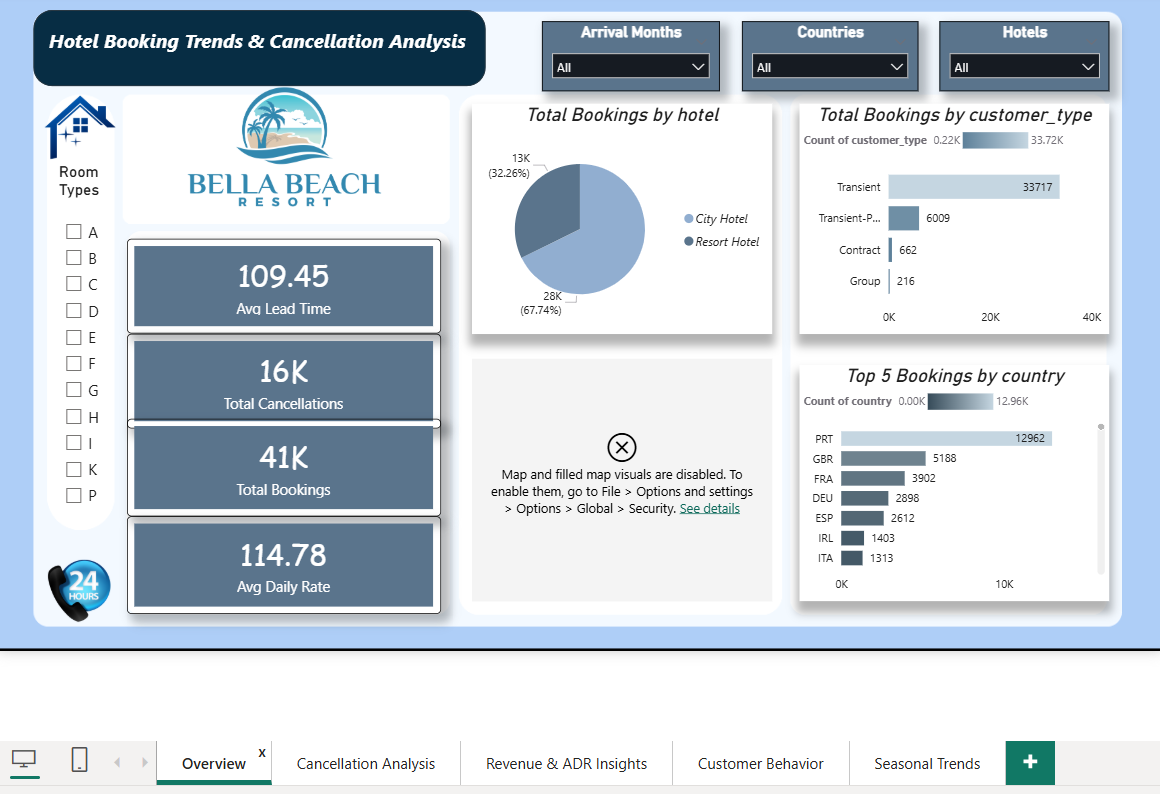

The page's visual inventory and layout, read from the dashboard file:
{"tool":"powerbi","page":{"name":"Overview","canvas":[1280,720],"ordinal":0},"visuals":[{"type":"slicer","title":"Hotels","fields":{"Values":["hotel_revenue.hotel"]},"box":[655.8,166.3,293,59.3],"z":2000},{"type":"slicer","title":"Countries","fields":{"Values":["hotel_revenue.Country Full Name"]},"box":[333.7,166.3,293,59.3],"z":3000},{"type":"textbox","box":[82.2,0,1115.9,86.3],"z":4000},{"type":"slicer","title":"Arrival Months","fields":{"Values":["hotel_revenue.arrival_date_month"]},"box":[12.8,166.3,293,59.3],"z":5000},{"type":"image","box":[12.8,0,181.4,173.3],"z":6000},{"type":"cardVisual","fields":{"Data":["Measure.Avg Lead Time"]},"box":[735.8,63.3,242.6,102.4],"z":7000},{"type":"cardVisual","fields":{"Data":["Measure.Cancellation Rate"]},"box":[458.2,63.3,239.9,102.4],"z":8000},{"type":"cardVisual","fields":{"Data":["Measure.Total Bookings"]},"box":[202.1,62,222.4,102.4],"z":9000},{"type":"cardVisual","fields":{"Data":["Measure.Avg Daily Rate"]},"box":[1006.7,63.3,234.5,102.4],"z":10000},{"type":"pieChart","fields":{"Category":["hotel_revenue.hotel"],"Y":["Measure.Total Bookings"]},"box":[1007,531.4,273.3,188.4],"z":11000},{"type":"map","title":"Total Bookings","fields":{"Category":["hotel_revenue.country"],"Size":["Measure.Total Bookings"]},"box":[417.8,531,285.7,188.7],"z":12000},{"type":"barChart","title":"Top 5 Bookings by country","fields":{"Y":["Measure.Top 5 Countries Bookings"],"Category":["hotel_revenue.Country Full Name"]},"box":[699.4,242.6,571.4,261.4],"z":13000},{"type":"barChart","title":"Total Bookings by customer type","fields":{"Category":["hotel_revenue.customer_type"],"Y":["Measure.Total Bookings"]},"box":[0,531.6,403.5,188.4],"z":14000},{"type":"lineChart","title":"Total Cancellations vs Total Bookings by Months","fields":{"Category":["Date Table.Month"],"Y":["Measure.Total Cancellations"],"Y2":["Measure.Total Bookings"]},"box":[12.8,243,670.9,261.6],"z":15000},{"type":"slicer","title":"Room Type","fields":{"Values":["hotel_revenue.assigned_room_type"]},"box":[977.9,166.3,293,59.3],"z":16000},{"type":"clusteredBarChart","title":"Meal Plan preferences","fields":{"Y":["Measure.Total Bookings"],"Category":["hotel_revenue.Meal Plan"]},"box":[719.8,531.4,273.3,188.4],"z":17000}]}

Visuals, with their boxes on the page's 1280x720 design canvas (x1, y1, x2, y2). These are canvas units, not pixel positions in the 1160x794 screenshot, which may show the page scaled, cropped or inside an application window:
"Hotels" slicer: left=656, top=166, right=949, bottom=226
"Countries" slicer: left=334, top=166, right=627, bottom=226
textbox: left=82, top=0, right=1198, bottom=86
"Arrival Months" slicer: left=13, top=166, right=306, bottom=226
image: left=13, top=0, right=194, bottom=173
cardVisual - Measure.Avg Lead Time: left=736, top=63, right=978, bottom=166
cardVisual - Measure.Cancellation Rate: left=458, top=63, right=698, bottom=166
cardVisual - Measure.Total Bookings: left=202, top=62, right=424, bottom=164
cardVisual - Measure.Avg Daily Rate: left=1007, top=63, right=1241, bottom=166
pieChart - hotel_revenue.hotel x Measure.Total Bookings: left=1007, top=531, right=1280, bottom=720
"Total Bookings" map: left=418, top=531, right=704, bottom=720
"Top 5 Bookings by country" barChart: left=699, top=243, right=1271, bottom=504
"Total Bookings by customer type" barChart: left=0, top=532, right=404, bottom=720
"Total Cancellations vs Total Bookings by Months" lineChart: left=13, top=243, right=684, bottom=505
"Room Type" slicer: left=978, top=166, right=1271, bottom=226
"Meal Plan preferences" clusteredBarChart: left=720, top=531, right=993, bottom=720
